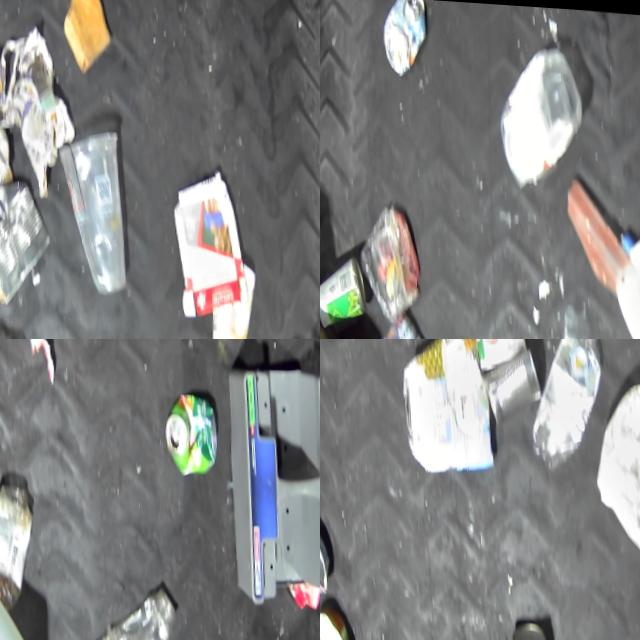can: (0, 171, 50, 298), (156, 383, 216, 477), (480, 341, 540, 423), (378, 0, 428, 78), (320, 251, 365, 331), (464, 339, 526, 375), (499, 614, 551, 640), (320, 597, 346, 640)
milk_jug: (605, 219, 640, 339)
plastic_bottle: (521, 339, 603, 467), (66, 569, 173, 640)
